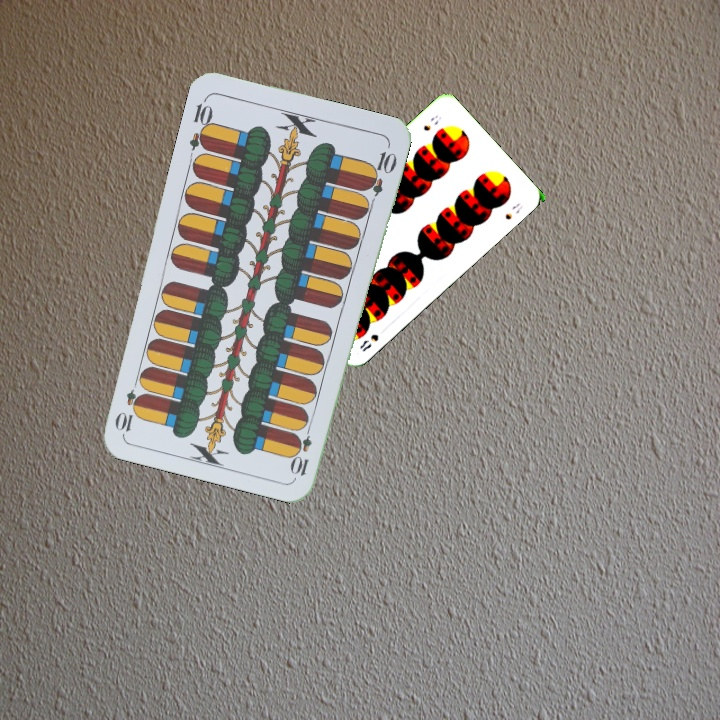E10: (185, 94, 216, 153), (289, 419, 315, 478)
S8: (355, 330, 381, 354), (419, 111, 444, 133)
